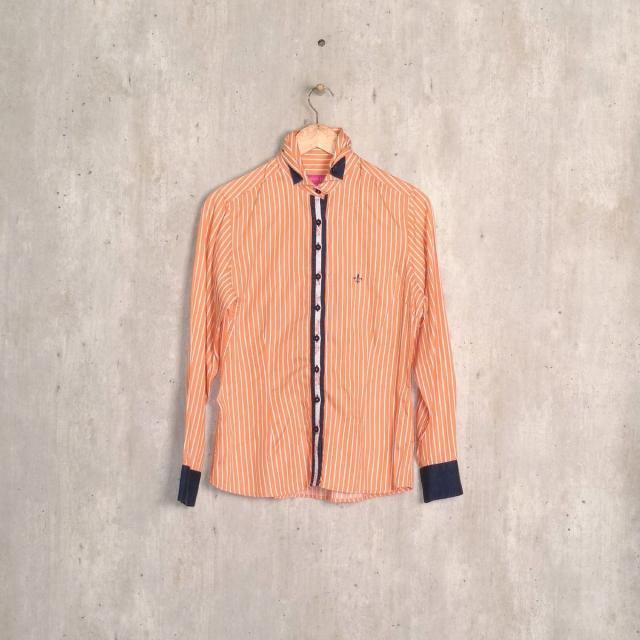long sleeve shirt: (175, 121, 468, 510)
